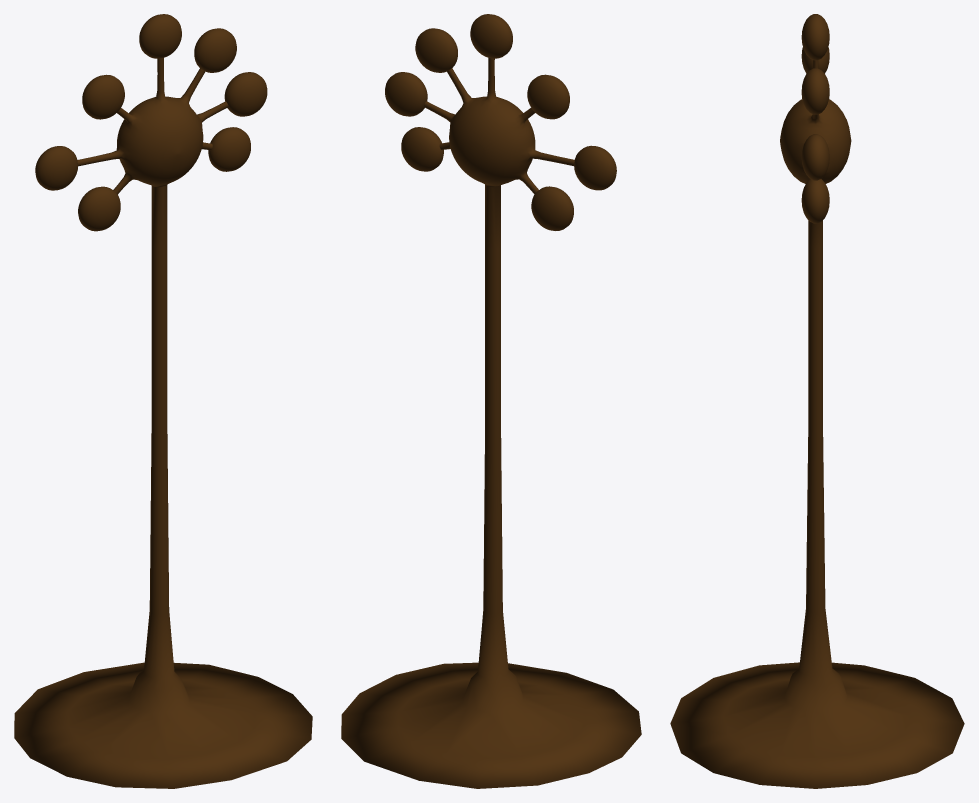
File: SOFA_pod.obj
3 views of the same model, side by side, from view 1: azimuth 30°, elevation 25°; view 2: azimuth 150°, elevation 25°; view 3: azimuth 270°, elevation 25° (orthographic).
Visible parts, largest first — view 1: SOFA_pod.obj.001; view 2: SOFA_pod.obj.001; view 3: SOFA_pod.obj.001.
Boxes of the visible parts, box(x1,y1,x2,y2) form: SOFA_pod.obj.001: box(14, 14, 312, 788); SOFA_pod.obj.001: box(341, 14, 641, 788); SOFA_pod.obj.001: box(670, 14, 964, 788).
Bounding box in the file's own units: 25.81 × 66.78 × 25.13.
